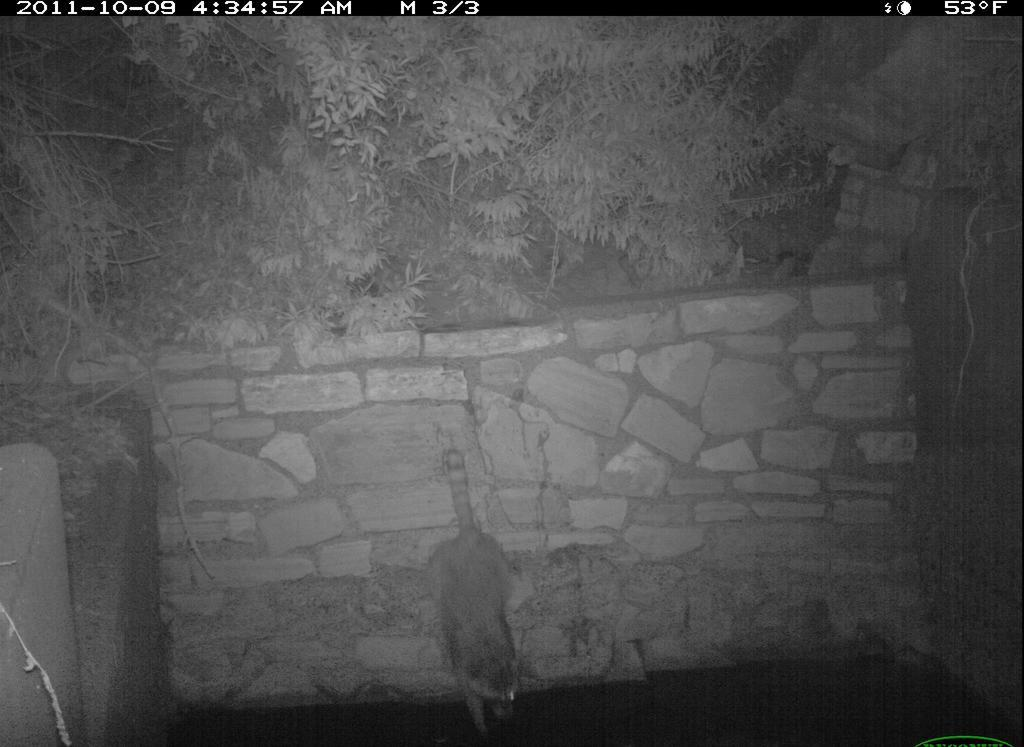raccoon: (425, 447, 555, 734)
